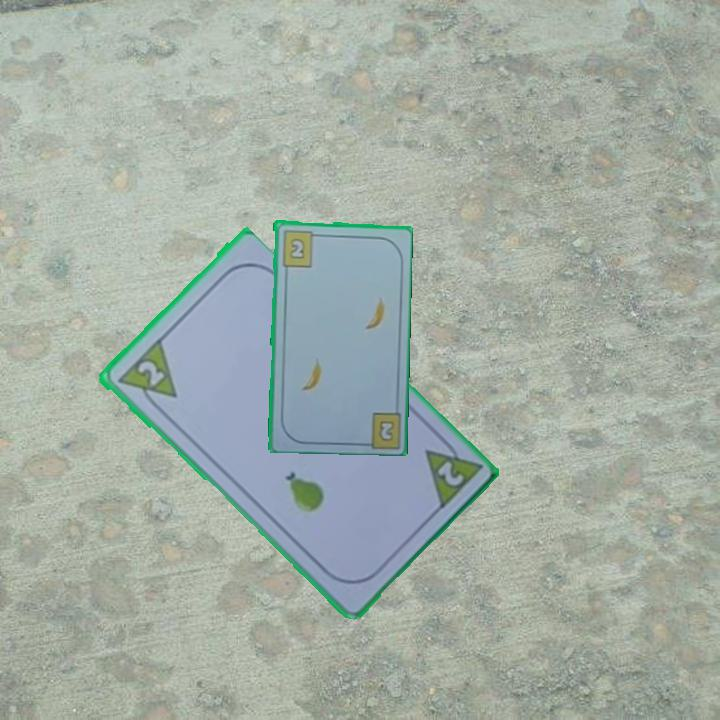2b: (278, 226, 321, 269), (375, 417, 397, 444)
2p: (132, 356, 167, 389), (432, 457, 467, 490)
